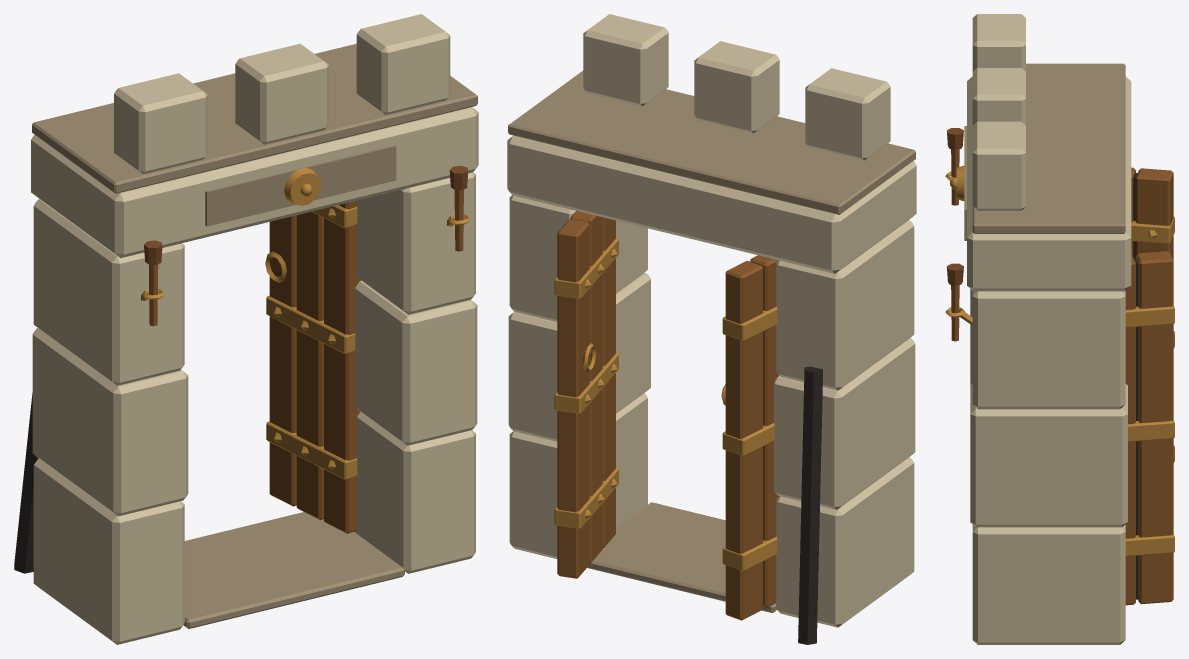
The model's file is gateOpen.glb.
3 renders of one model, left to right at view 1: azimuth 30°, elevation 25°; view 2: azimuth 150°, elevation 25°; view 3: azimuth 270°, elevation 25°, orthographic. The views are drawn at different scales.
Parts seen in each view (by area): view 1: gateOpen; view 2: gateOpen; view 3: gateOpen.
Part boxes in pixels (x1,y1,x2,y2): gateOpen: (14,14,478,644); gateOpen: (507,14,916,644); gateOpen: (945,14,1174,644).
Size of the model in its own units: 1 by 1.4 by 0.6012.
